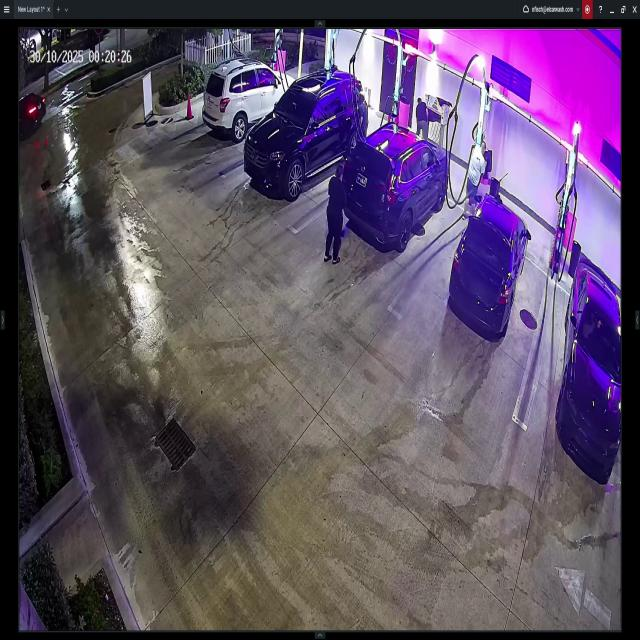Car: (246, 68, 365, 200), (556, 261, 623, 479), (340, 128, 448, 252), (450, 190, 530, 338), (202, 60, 297, 137), (19, 91, 45, 138)
